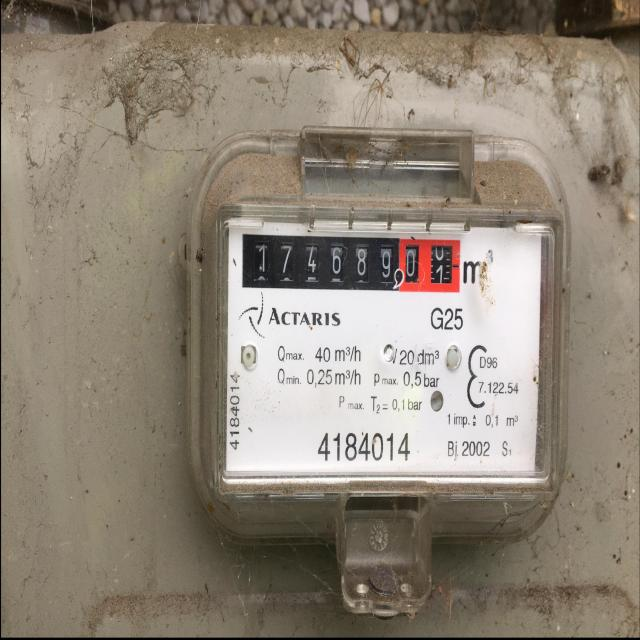gaz_meter: (217, 209, 540, 477)
indication: (241, 235, 460, 293)
